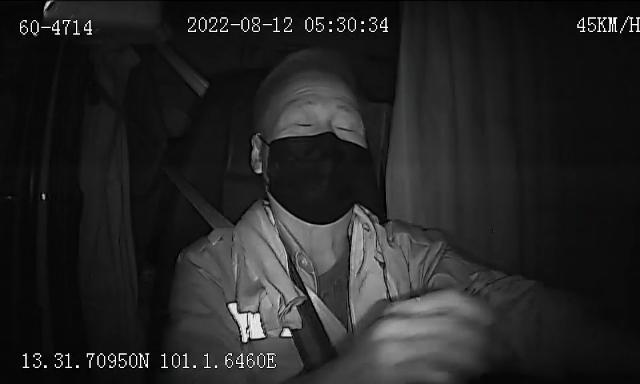SafeDriving: (292, 94, 320, 110)
Seatbelt: (174, 178, 353, 358)
